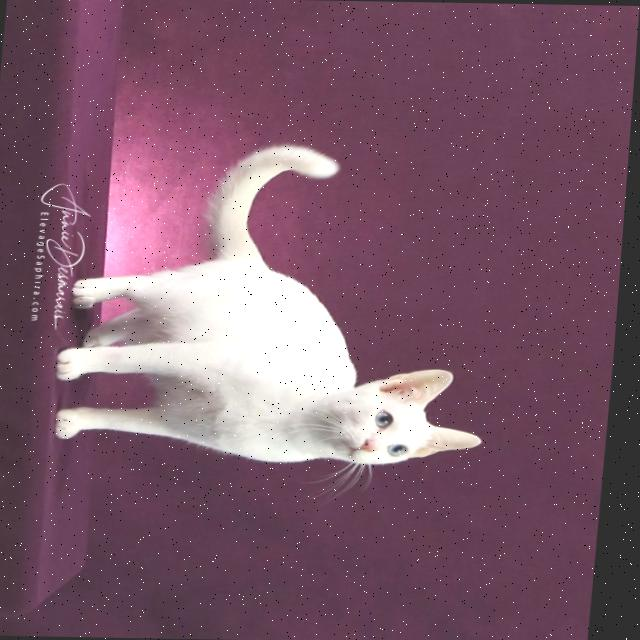Khao Manee: (47, 136, 515, 473)
